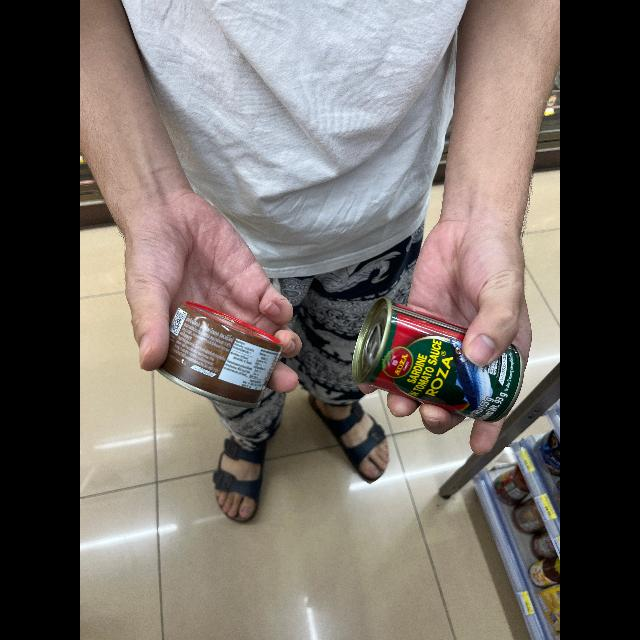can: (348, 296, 528, 416), (150, 294, 288, 410)
